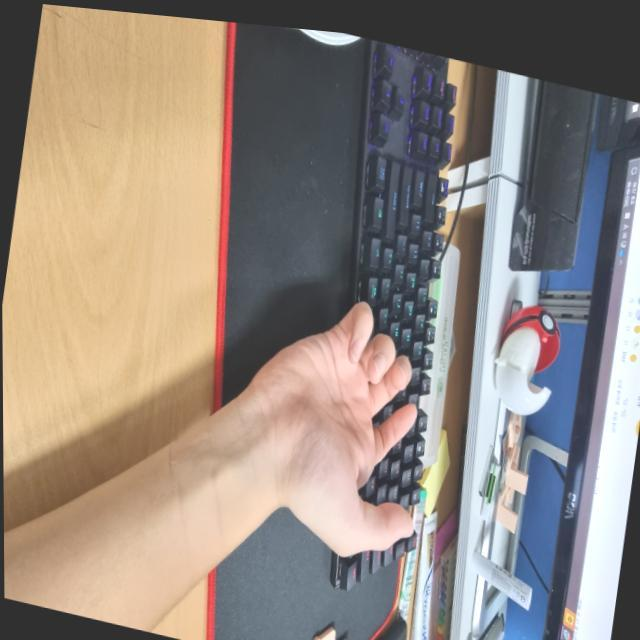keyboard-with-hands: (332, 37, 459, 598)
